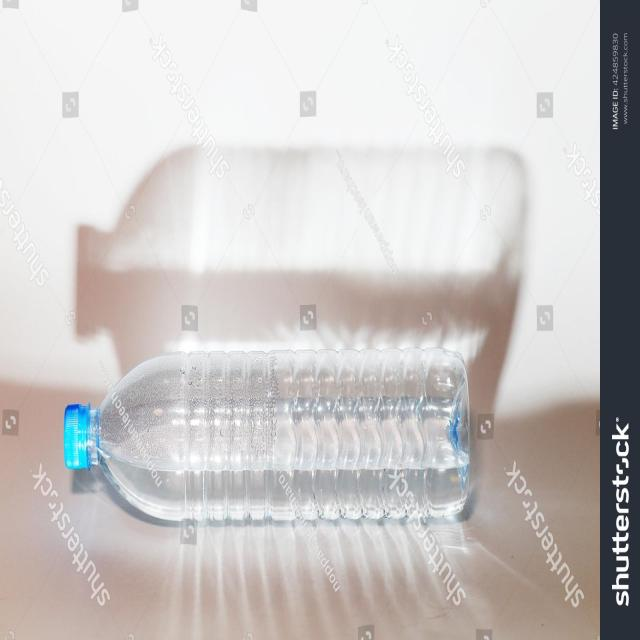medium: (64, 348, 469, 521)
